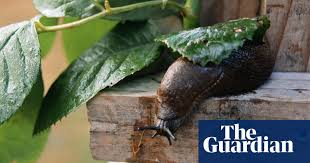slug: (141, 29, 272, 143)
